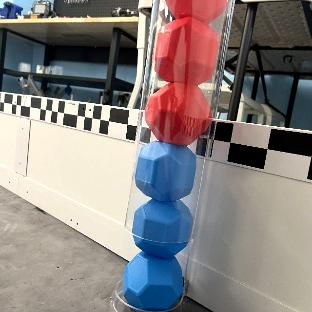V5_BLUE: (123, 252, 183, 309), (136, 142, 195, 199), (132, 199, 192, 255)
V5_RED: (152, 0, 226, 84), (144, 81, 212, 144), (166, 0, 226, 21)
